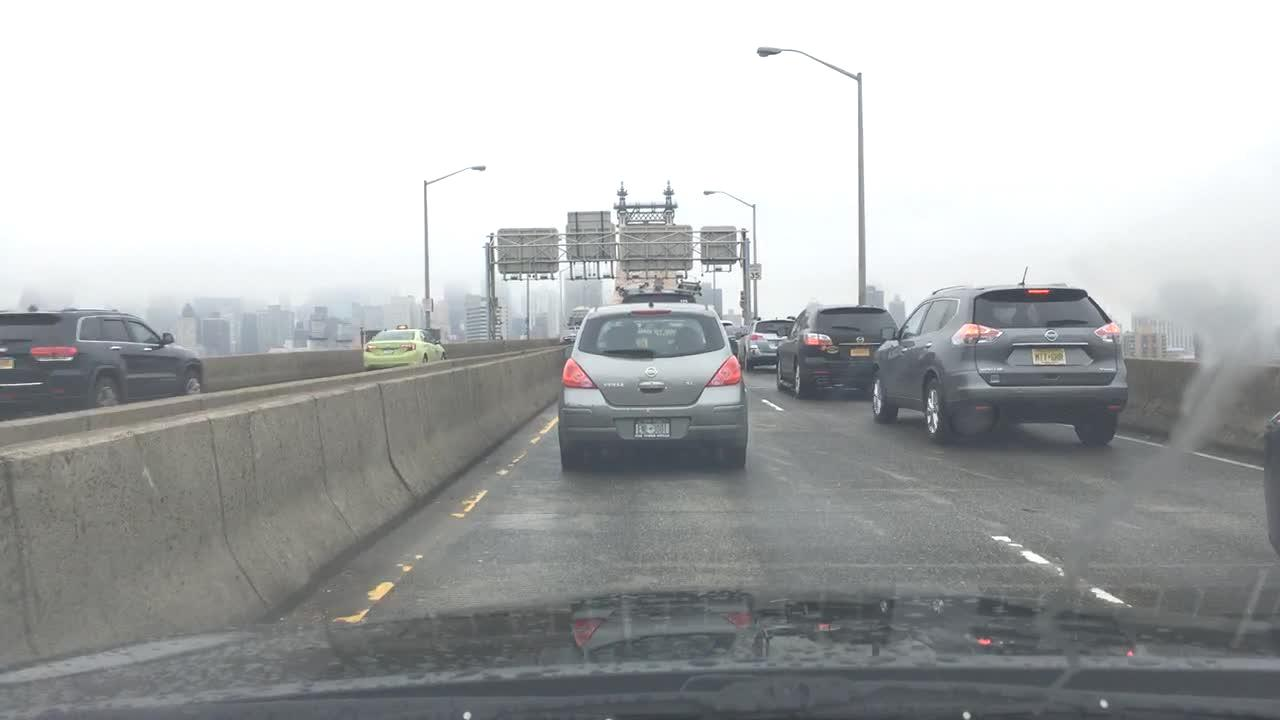Nissan: (640, 362, 662, 381), (1042, 328, 1061, 344)
